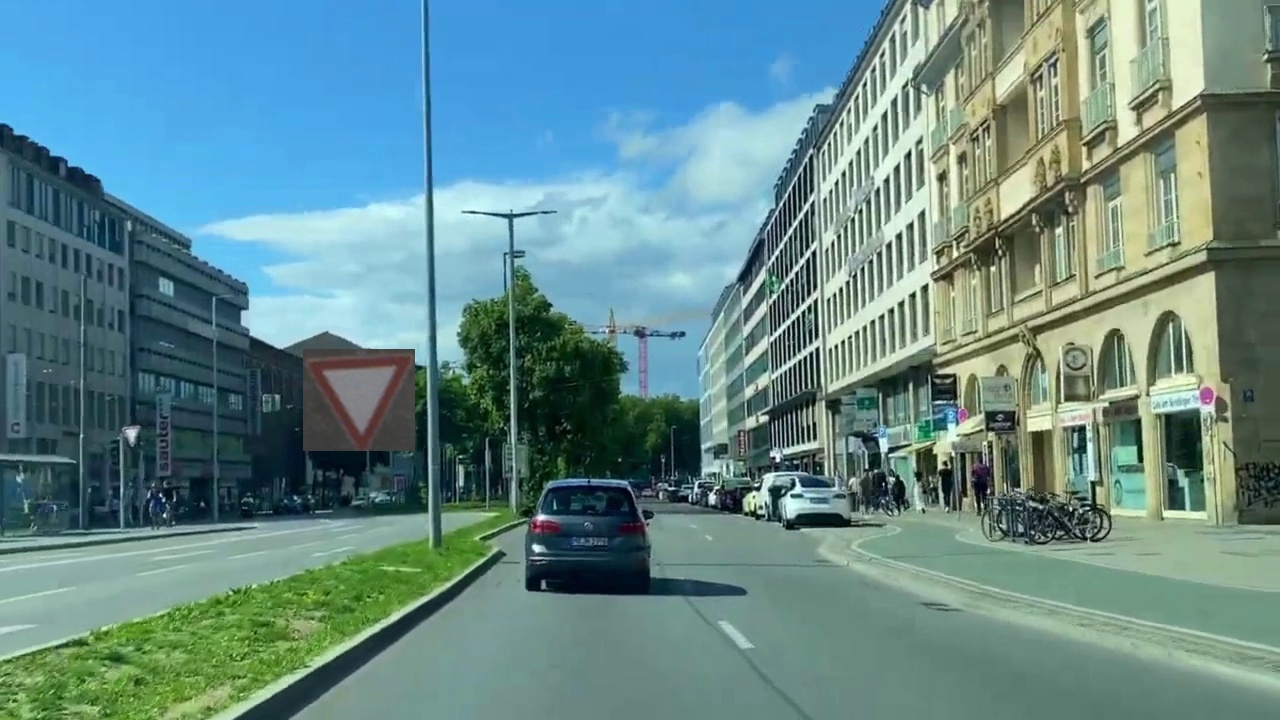Yield: (303, 349, 415, 451)
